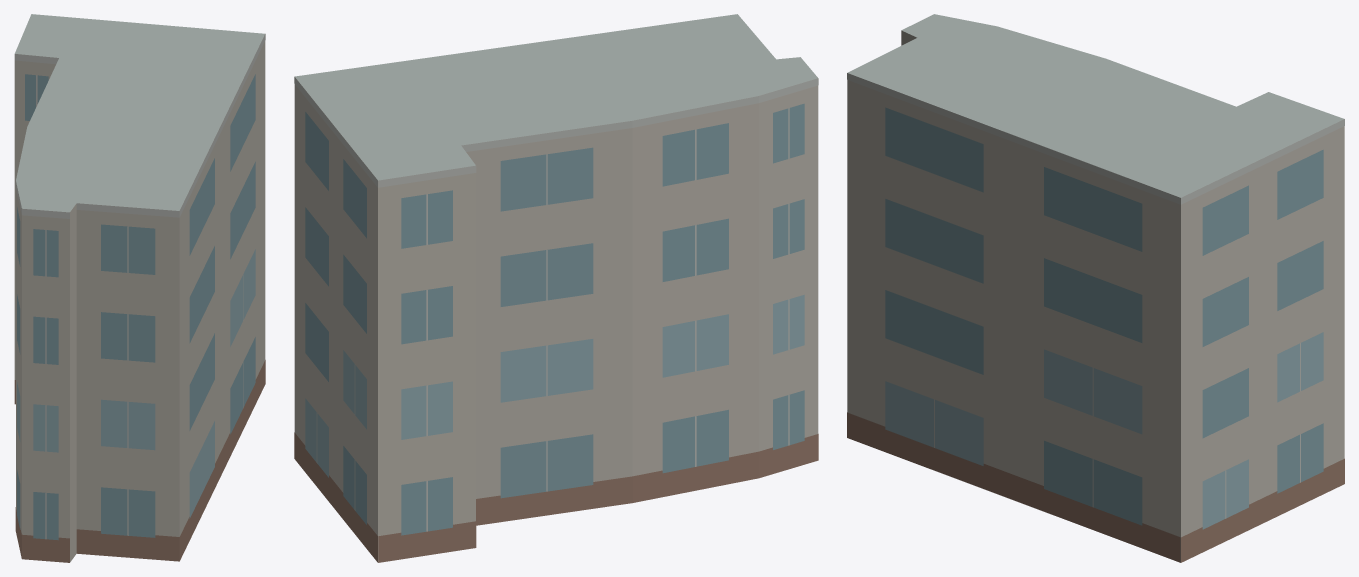
The model's file is survey-upis-32472963.glb.
The picture shows the model from 3 angles, left to right: view 1: azimuth 30°, elevation 25°; view 2: azimuth 150°, elevation 25°; view 3: azimuth 270°, elevation 25°; orthographic projection. The views are drawn at different scales.
Visible parts, largest first — view 1: survey-upis-32472963.tmp; view 2: survey-upis-32472963.tmp; view 3: survey-upis-32472963.tmp.
Part boxes in pixels (bbox=[...]): survey-upis-32472963.tmp: bbox=[14, 14, 265, 562]; survey-upis-32472963.tmp: bbox=[294, 14, 818, 562]; survey-upis-32472963.tmp: bbox=[847, 14, 1344, 562].
Bounding box in the file's own units: 13.95 × 12.9 × 15.95.
